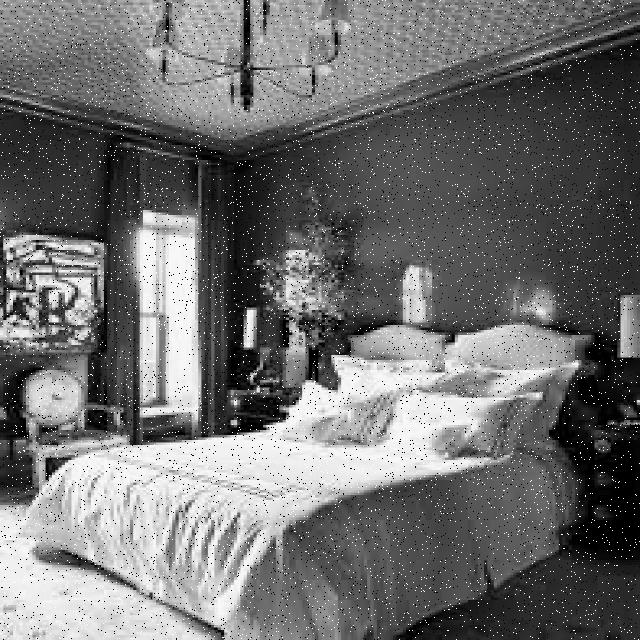bed: (41, 326, 585, 614)
